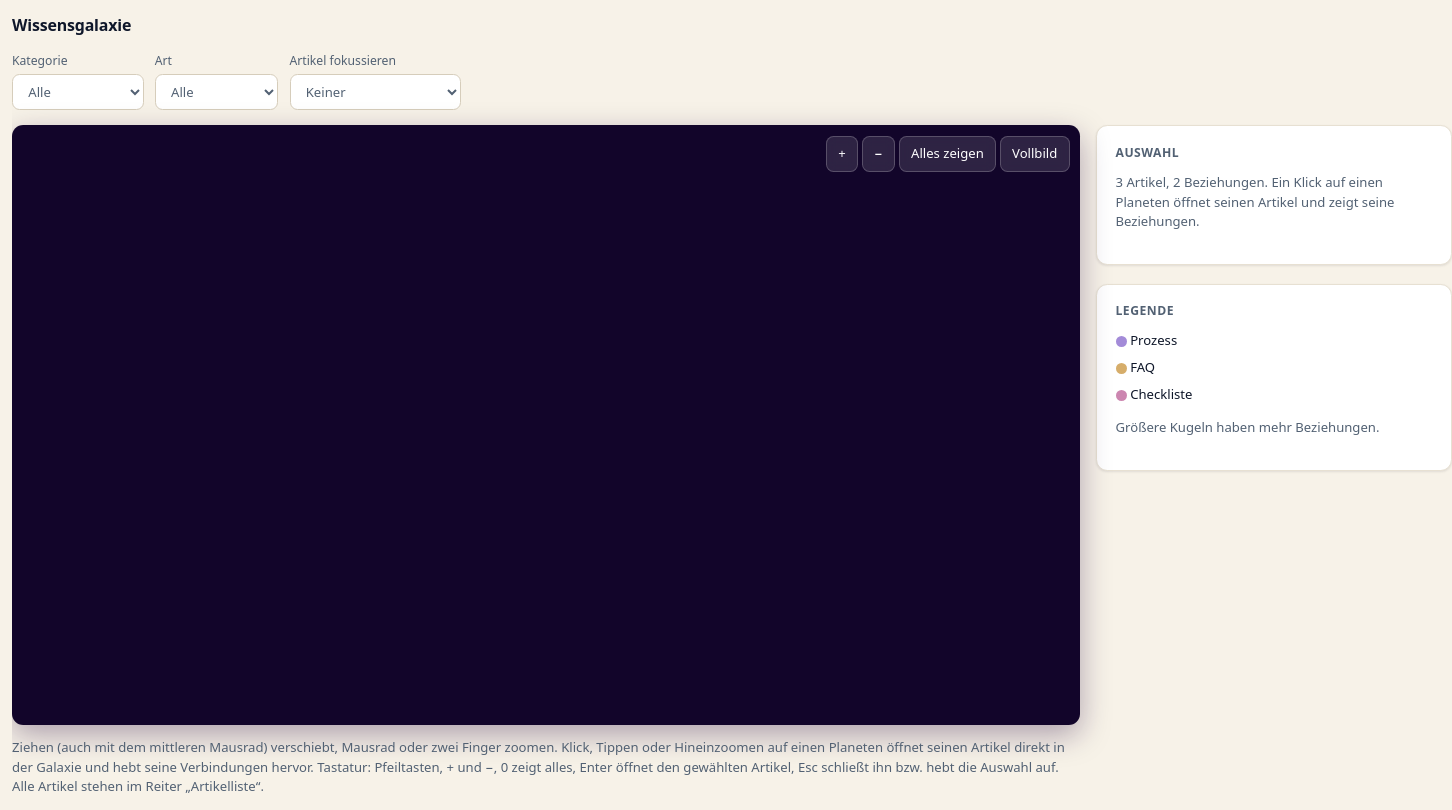
Test: KnowledgeGalaxy › opens an article right in the galaxy, follows its relations and leads to the full page
The image size is (1452, 810).
Select "Deployment-Prozess" in the dropdown labelled "Artikel fokussieren" at (375, 92), box [290,74,461,110]
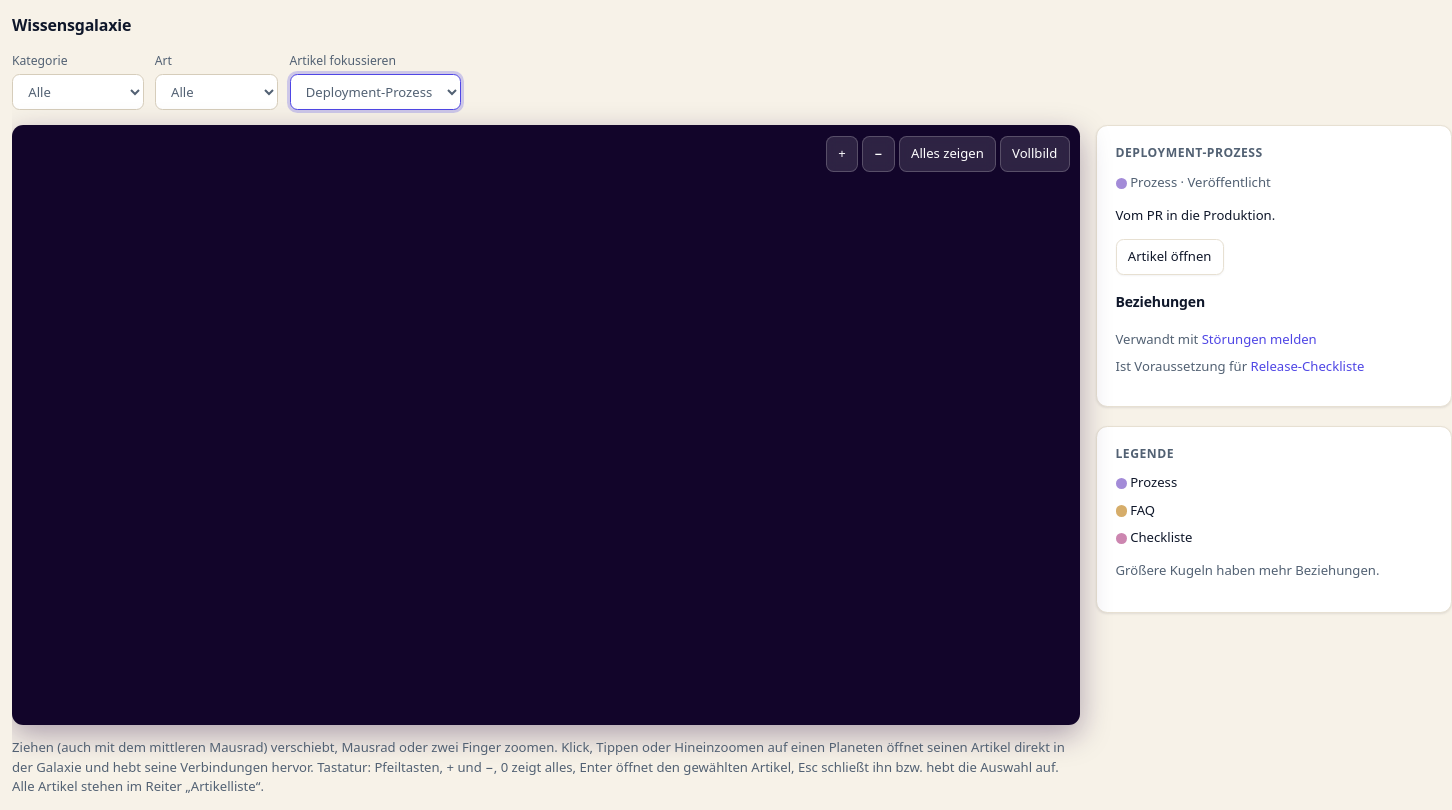
Click the button "Artikel öffnen" at (1170, 257), box [1116,239,1224,275]
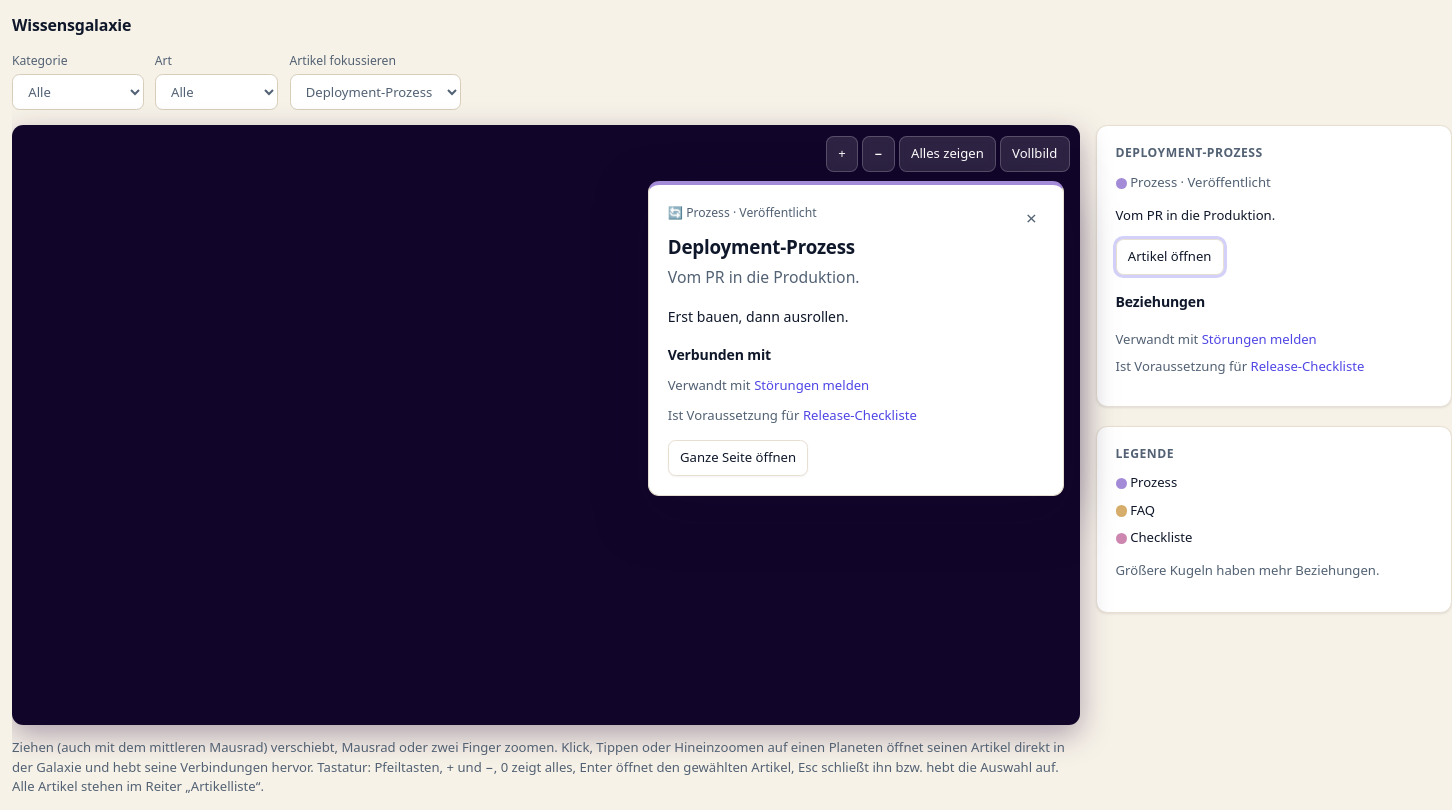
Expected: the element "Legende" is shown, [1096,426,1451,613]
Result: the text "Erst bauen, dann ausrollen." is shown at [668,307,849,326]
Result: the element "Deployment-Prozess" is shown at [648,181,1064,496]
A relation shows the other article in the same panel.
Click the button "Release-Checkliste" below "Verbunden mit" at (860, 415), box [803,406,917,425]
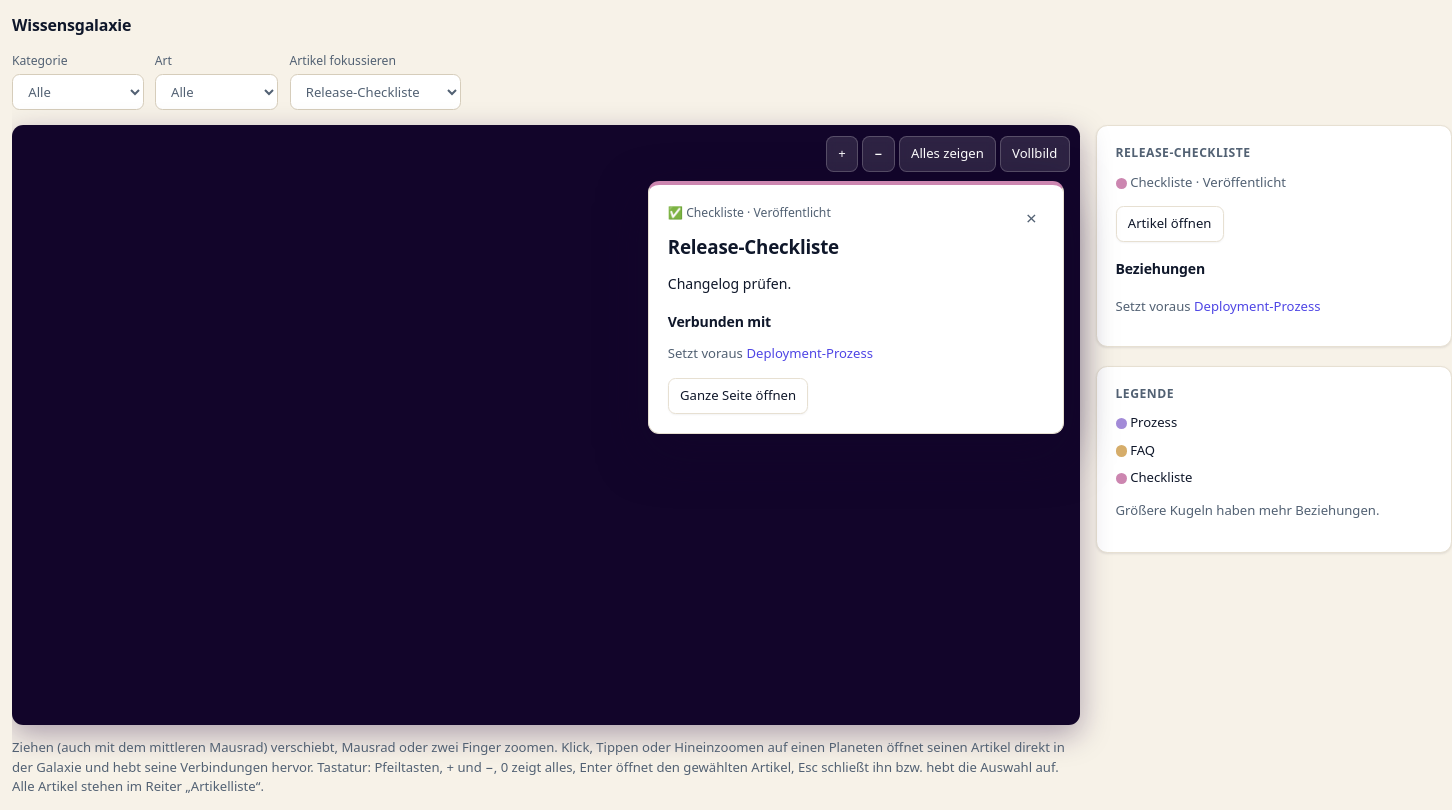
Result: the text "Changelog prüfen." is shown at [668,274,791,293]
Click the button "Ganze Seite öffnen" at (738, 396), box [668,378,808,414]
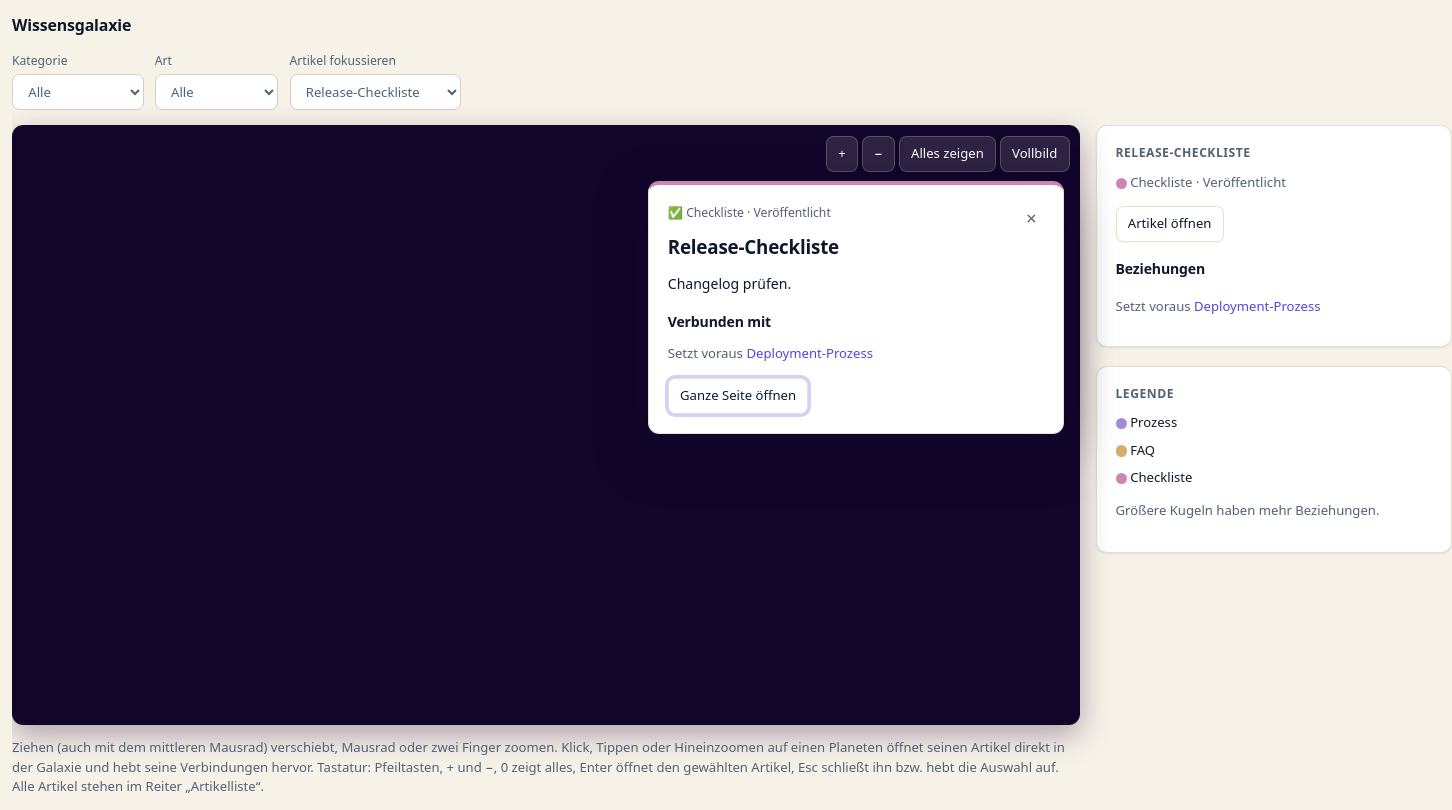
Closing keeps the selection.
Click the button named "Artikel schließen" at (1031, 218), box [1018,204,1044,232]
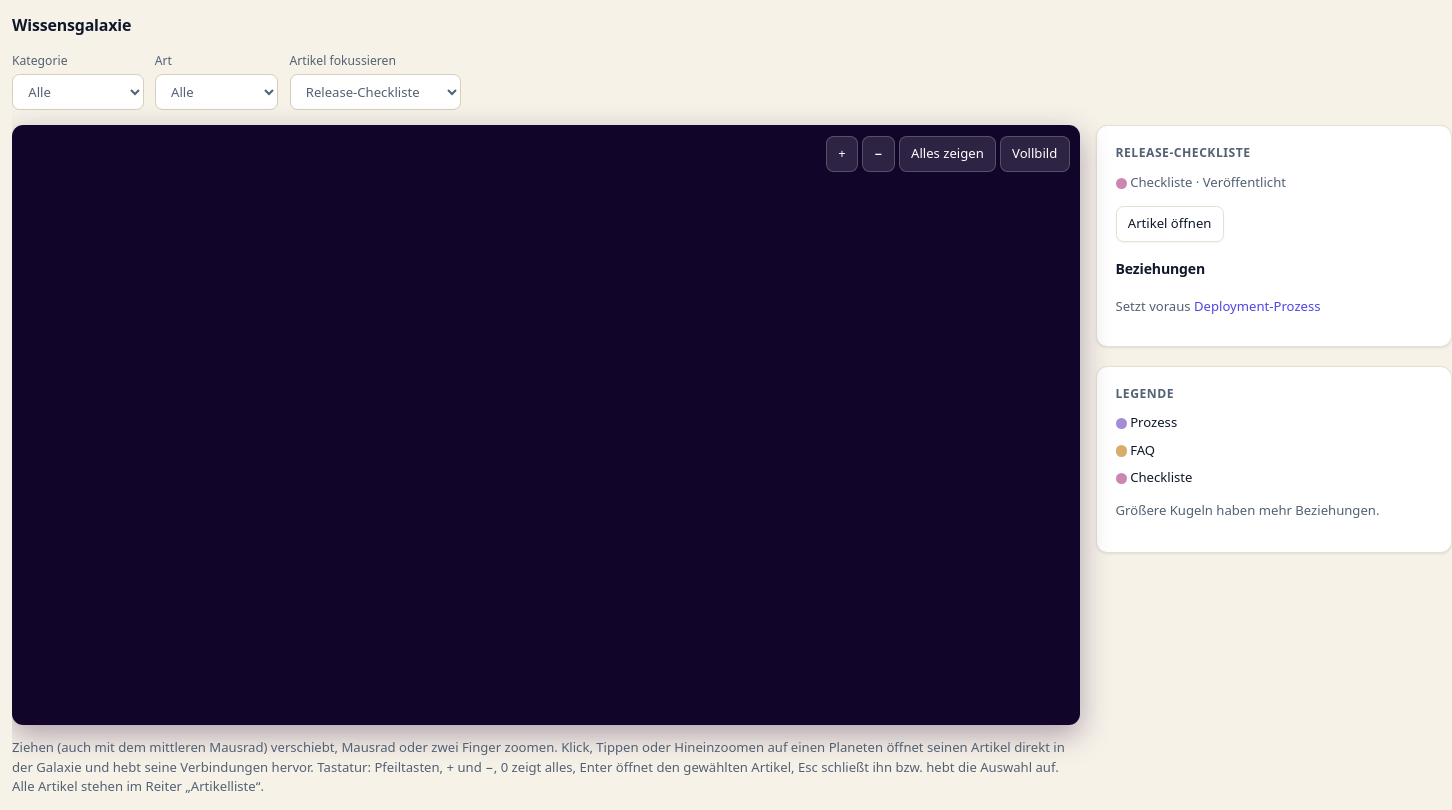
Result: the element "Release-Checkliste" is shown at [1096,125,1451,347]
Result: the text "Changelog prüfen." is gone
